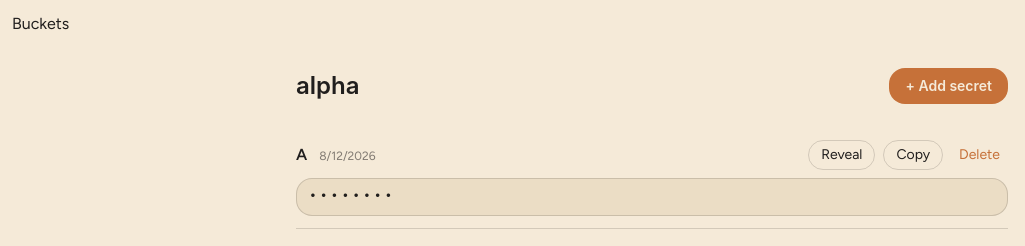
Test case: invariant 8: a plaintext reaches no persistent store › leaves localStorage and sessionStorage empty after a reveal
What coordinates should you click on to do the following:
click the button with aria-label "reveal A"
I would click on:
 (842, 155)
Its box is [808,140,875,170].
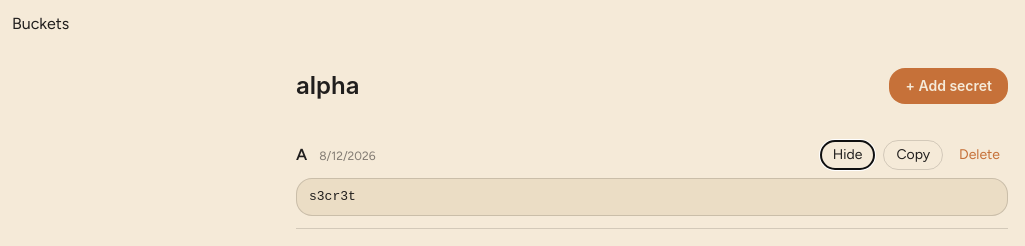
Expected: the text "s3cr3t" is shown, [296,178,1008,216]
